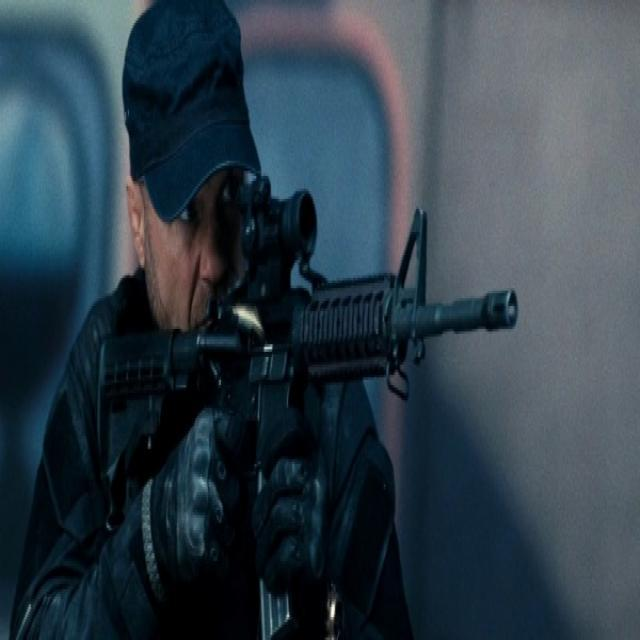weapon: (96, 180, 524, 640)
